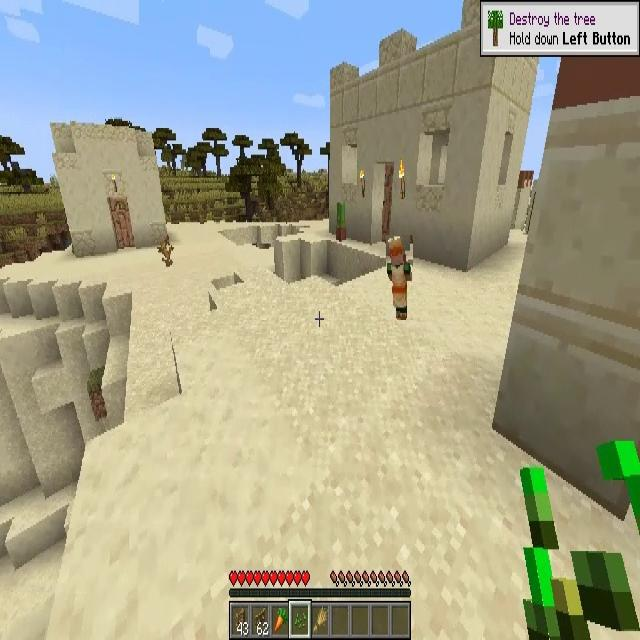people: (386, 235, 413, 320)
